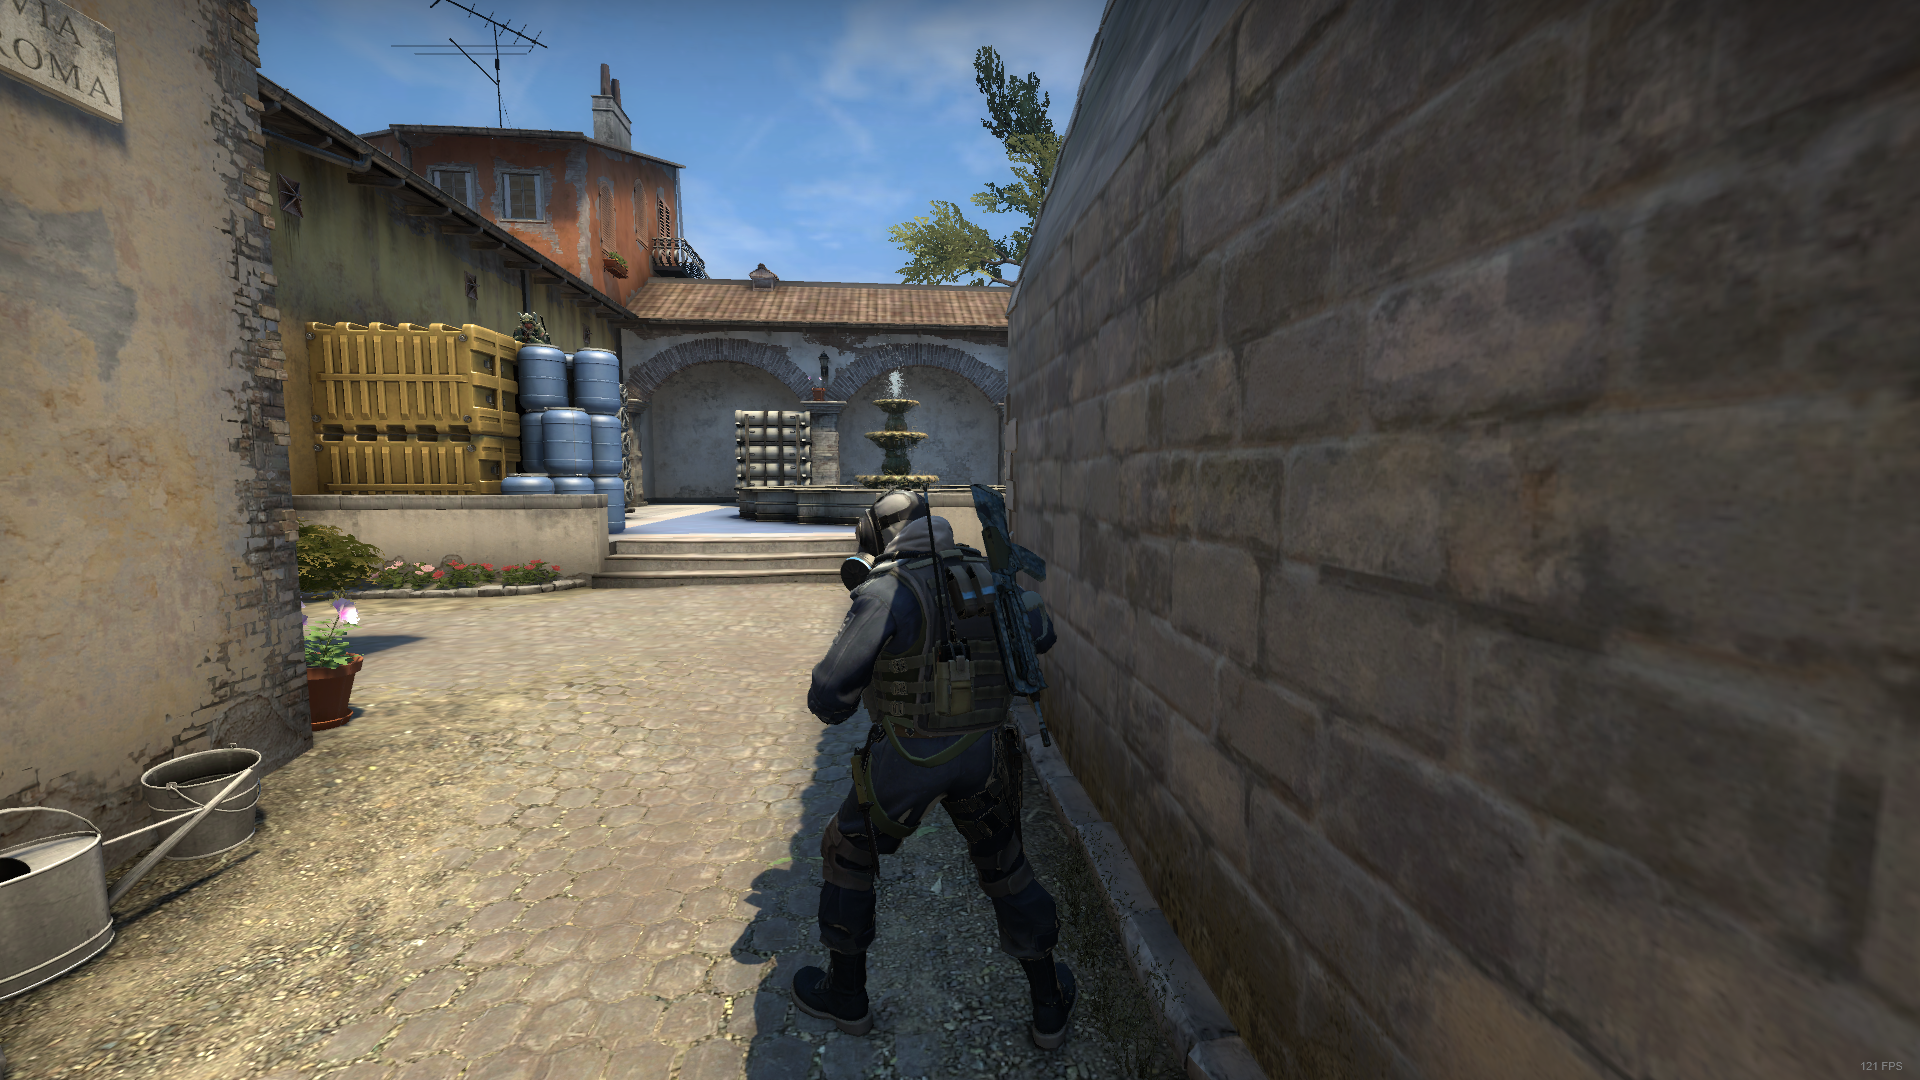ct: (774, 480, 1093, 1051)
